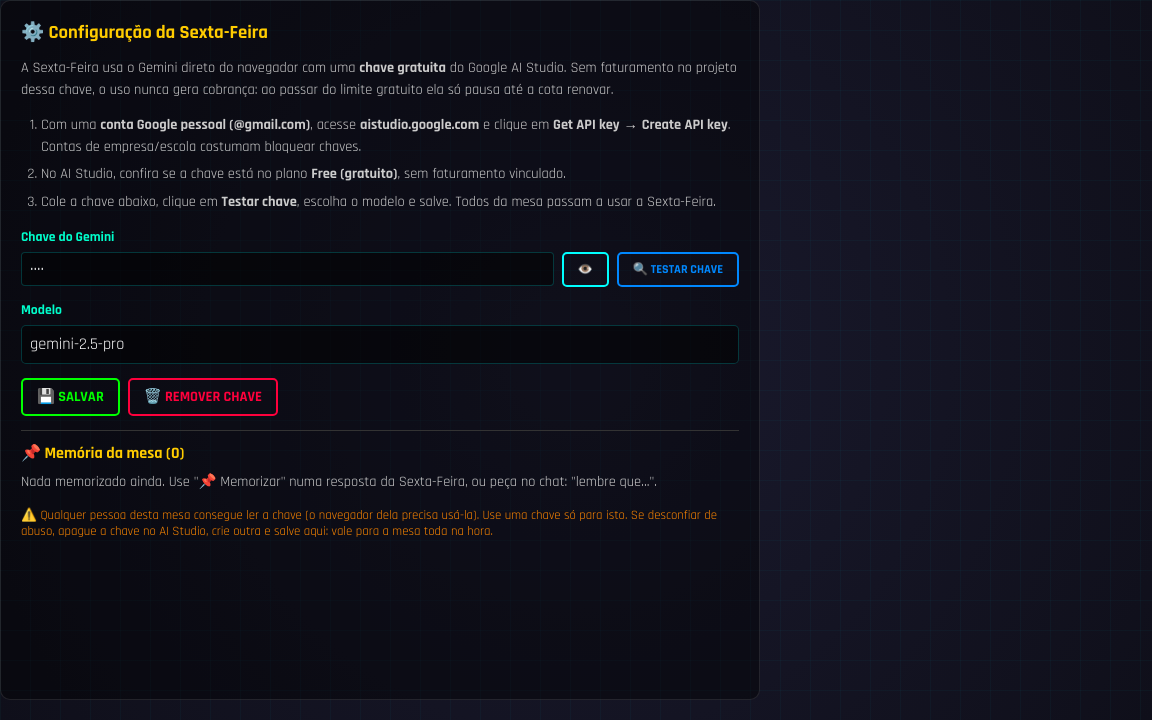
it: AIConfig › modelo atual que esta na lista nao e duplicado
Click the button "🔍 Testar chave" at (678, 269), box [617,252,739,287]
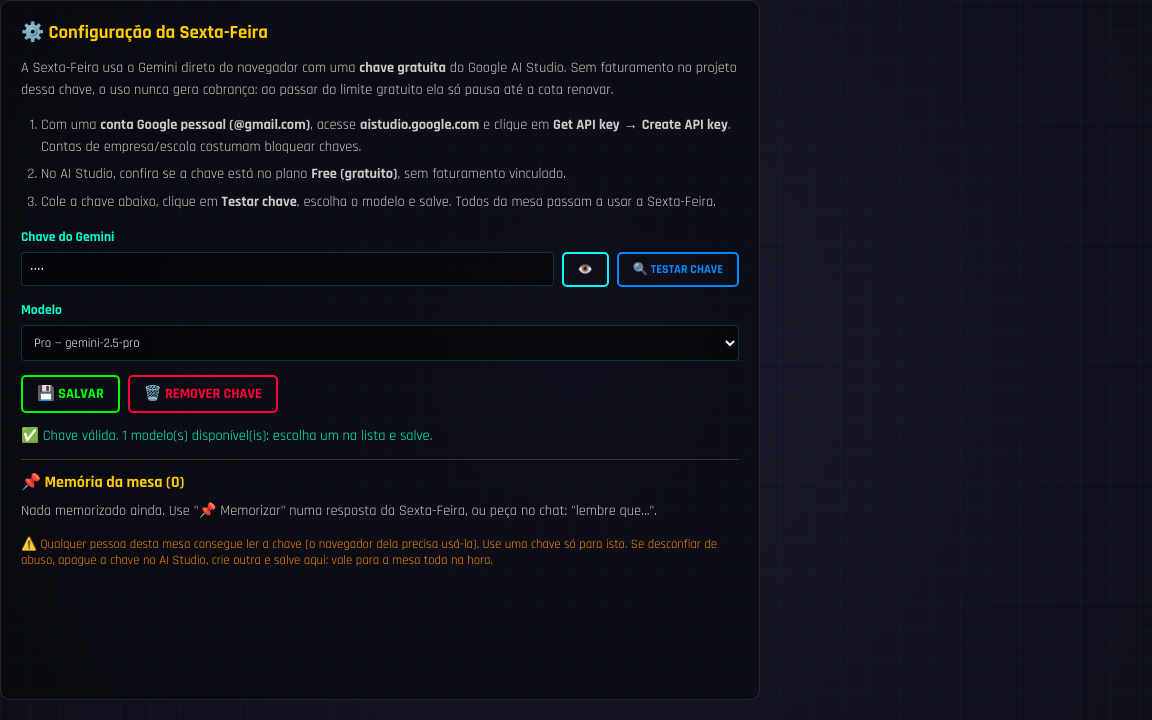
Check: the dropdown labelled "Modelo" is shown, box [21,325,739,361]
